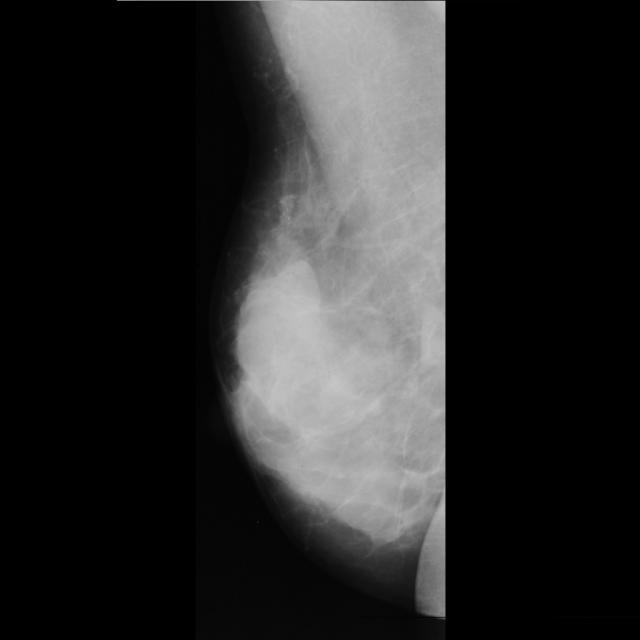CALC: (259, 193, 307, 240)
